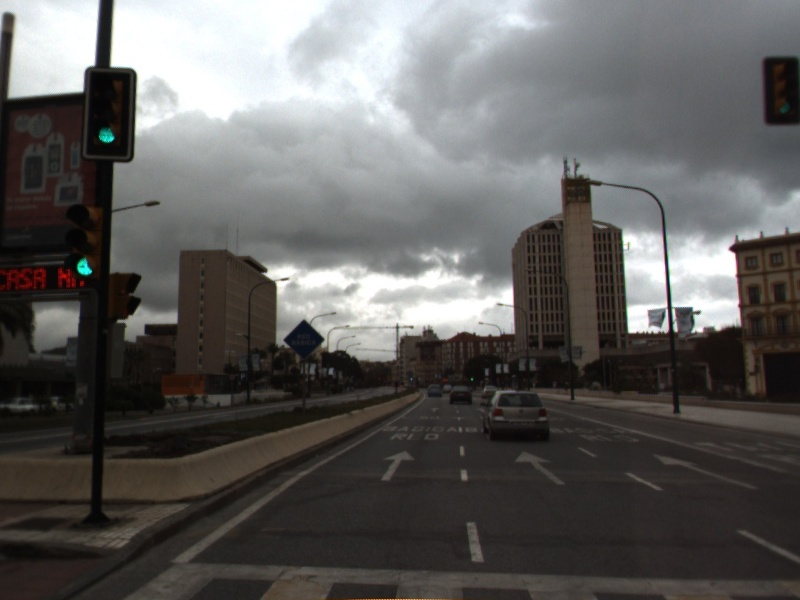STRAIGHT: (650, 451, 761, 493), (512, 448, 569, 488), (378, 448, 418, 484)
